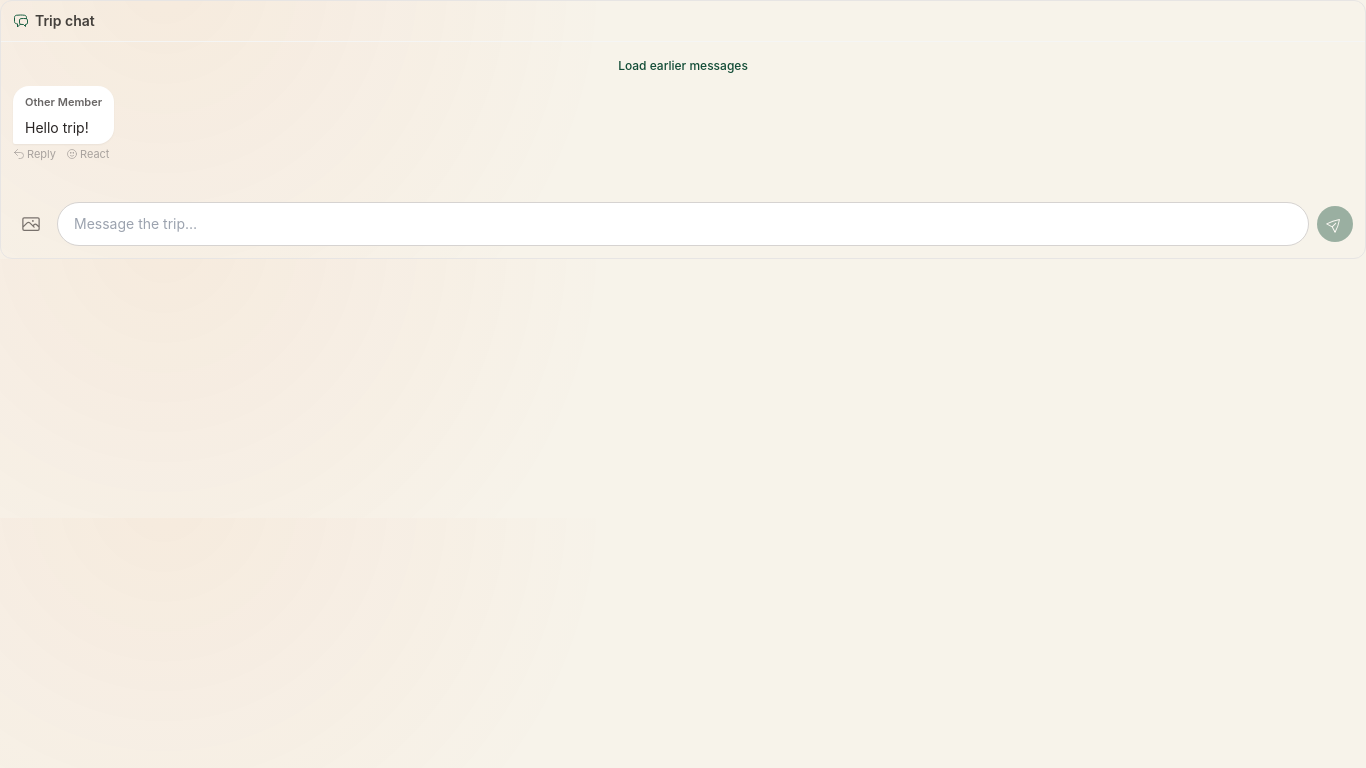
TripChatPanel › toggles a reaction from the picker and reflects the updated count
This screenshot has width=1366, height=768.
Check: the text "Hello trip!" is shown, box [25,119,89,136]
Click the button "React". click: (88, 154)
box: [66,146,110,162]
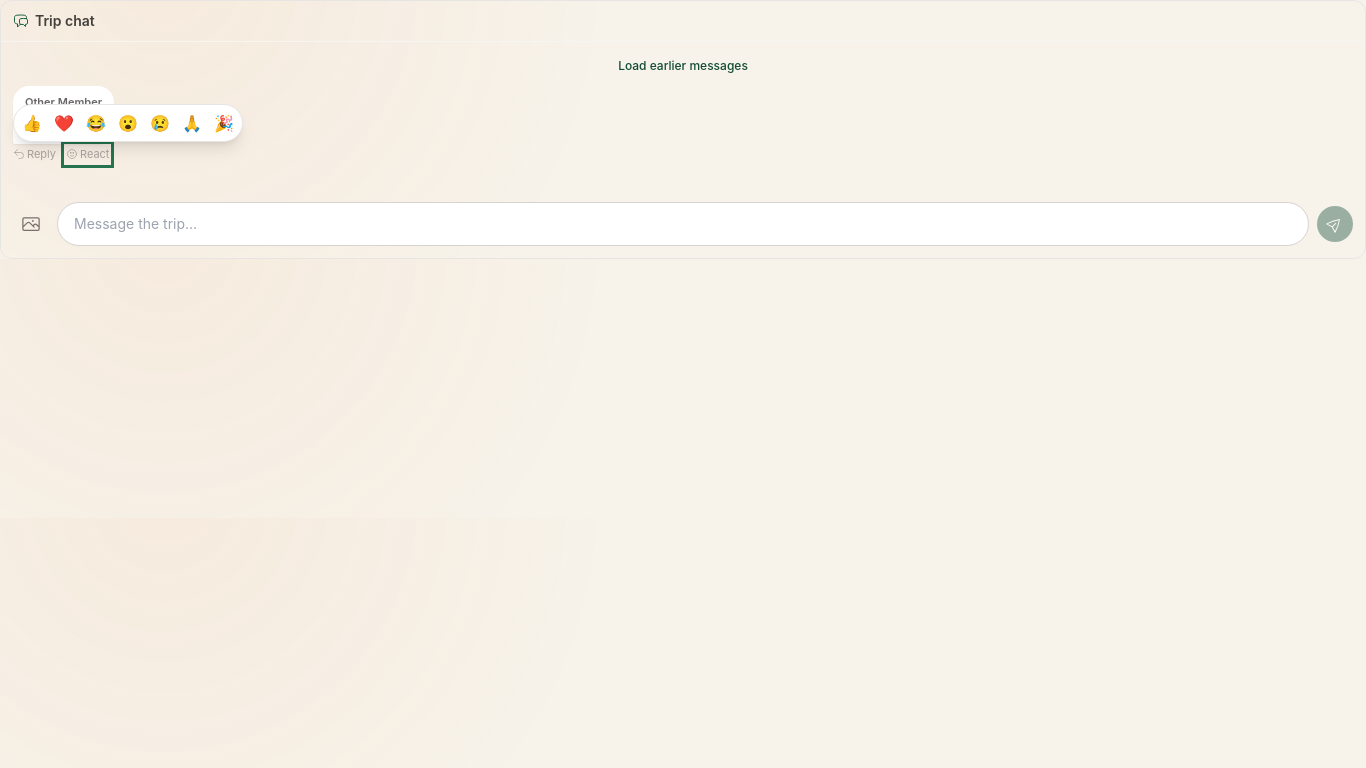
Click the button "👍". click: (32, 123)
box: [18,109,46,137]
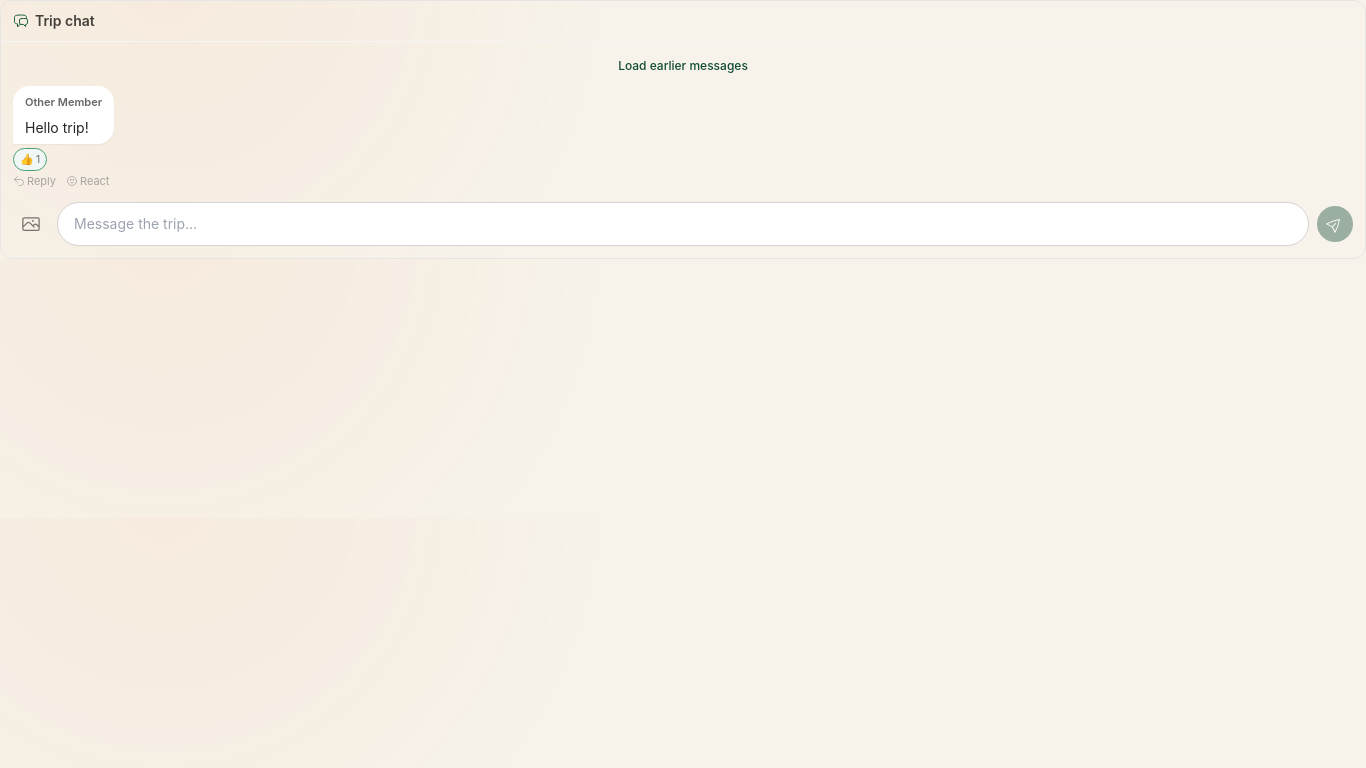
Check: the text "1" is shown, box [36,151,40,168]
